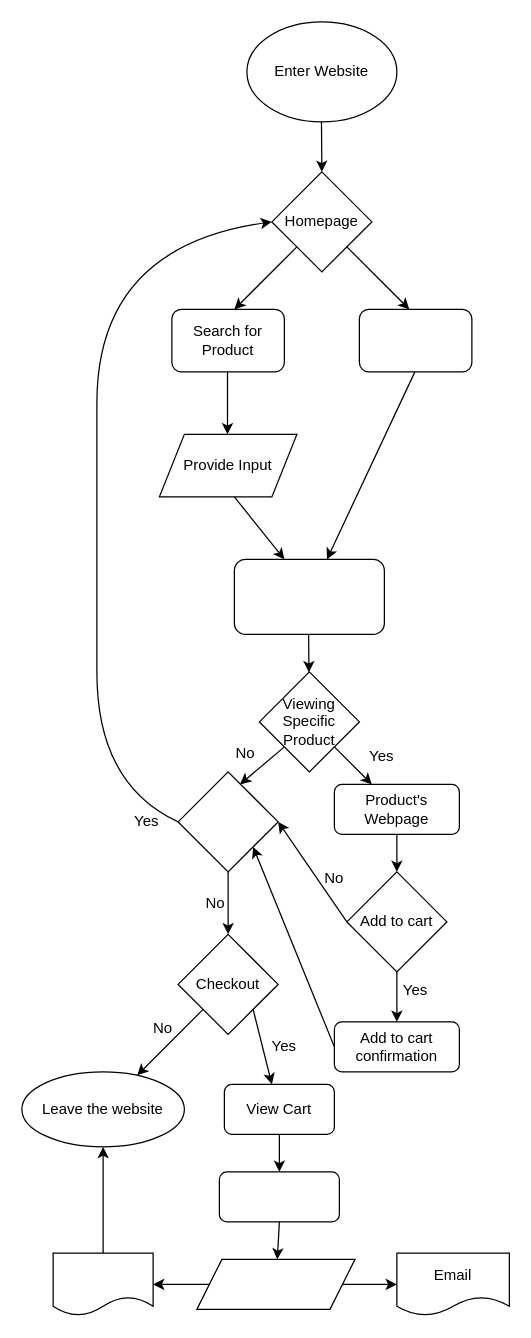
Some shapes in this 531 by 1338 pixel diagram are drawn without their labels. The centre of each missing label's shape, as x and y in pixels:
"Continue Shopping" belongs at (227,821).
"Explore Products" belongs at (415,340).
"Look over Products" belongs at (308,596).
"Order Confirmation" belongs at (102,1284).
"Payment Info" belongs at (275,1283).
"View Payment" belongs at (278,1196).
